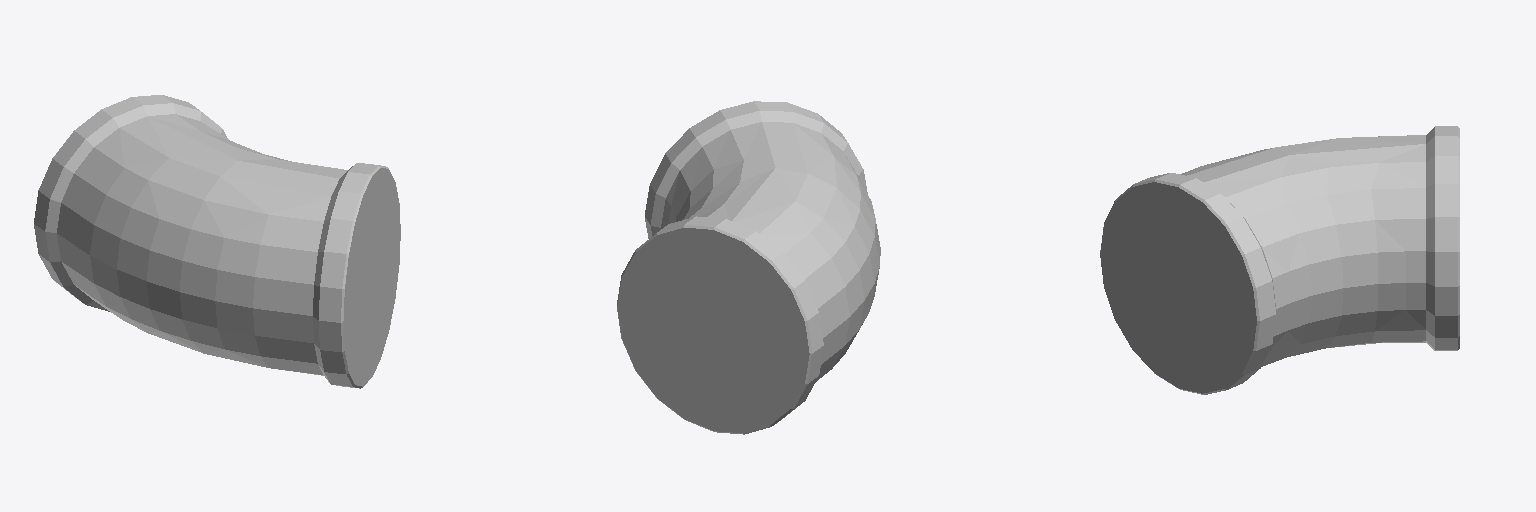
File: Pipe20a.obj
3 views of the same model, side by side, from view 1: azimuth 30°, elevation 25°; view 2: azimuth 150°, elevation 25°; view 3: azimuth 270°, elevation 25° (orthographic).
Visible parts, largest first — view 1: Pipe20a; view 2: Pipe20a; view 3: Pipe20a.
Boxes of the visible parts, box(x1,y1,x2,y2) form: Pipe20a: box(34, 95, 400, 388); Pipe20a: box(617, 101, 880, 434); Pipe20a: box(1100, 126, 1459, 394).
Bounding box in the file's own units: 0.0736 × 0.054 × 0.086.